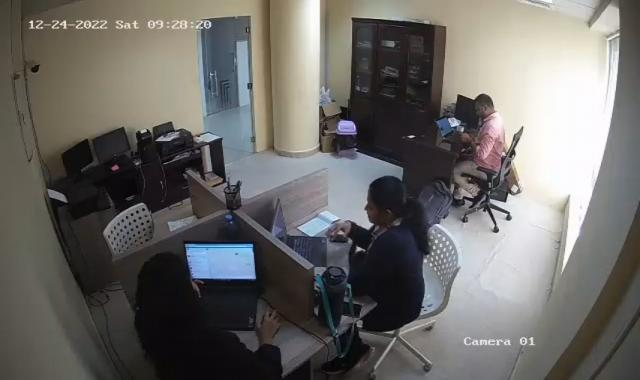no_hairnet: (141, 258, 194, 313), (363, 178, 411, 224), (472, 94, 495, 118)
